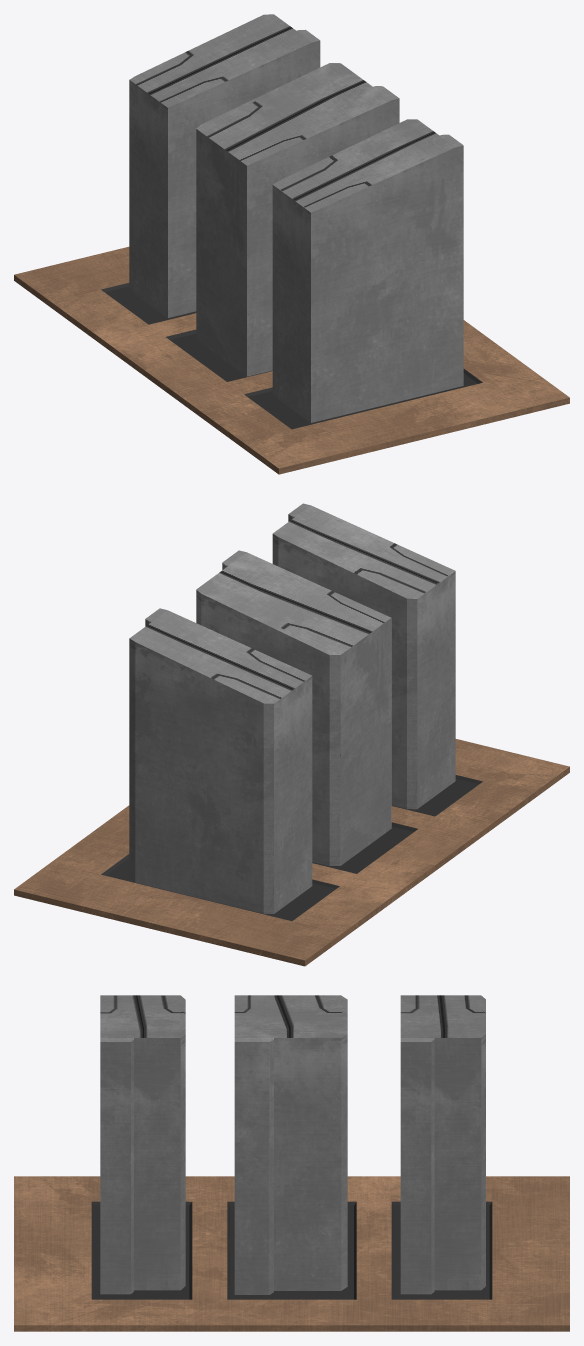
The model's file is autowall.fbx.
3 views of the same model, one above another, from view 1: azimuth 30°, elevation 25°; view 2: azimuth 150°, elevation 25°; view 3: azimuth 270°, elevation 25° (orthographic). The views are drawn at different scales.
Parts seen in each view (by area): view 1: autowall, autowall_plane; view 2: autowall, autowall_plane; view 3: autowall, autowall_plane.
Part boxes in pixels (box(x1,y1,x2,y2)): autowall: box(129, 14, 463, 422); autowall_plane: box(14, 246, 569, 474); autowall: box(129, 503, 455, 913); autowall_plane: box(14, 739, 569, 966); autowall: box(100, 995, 485, 1294); autowall_plane: box(14, 1176, 569, 1331).
Bounding box in the file's own units: 254 × 203 × 400.
Materials: 4 (4 with a texture image).
